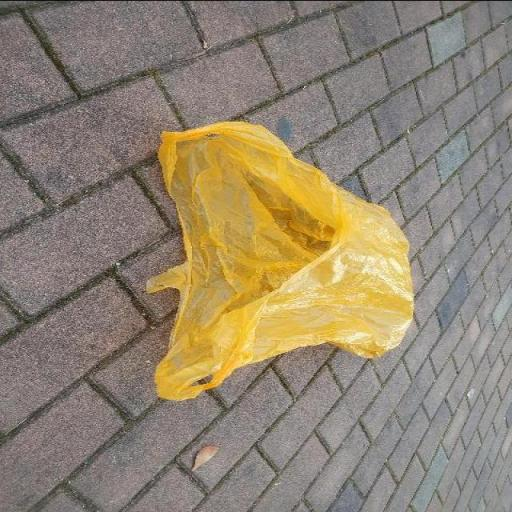plastic-bag: (144, 118, 417, 400)
